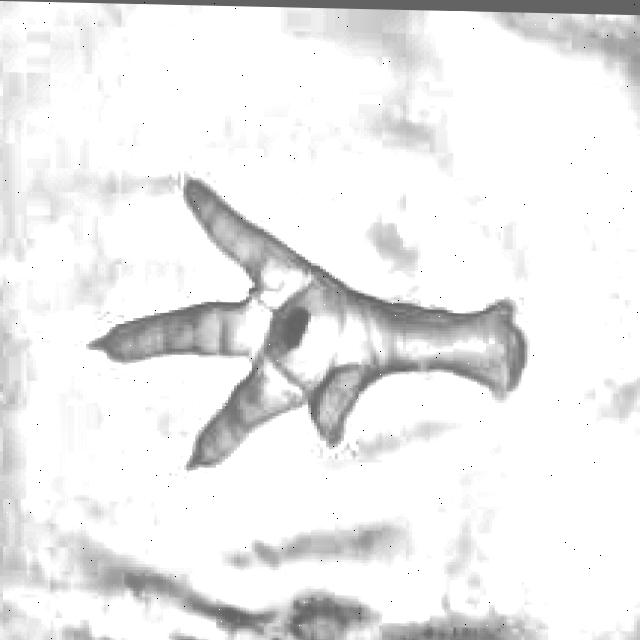Bumble foot: (83, 173, 527, 481), (279, 304, 311, 352)
